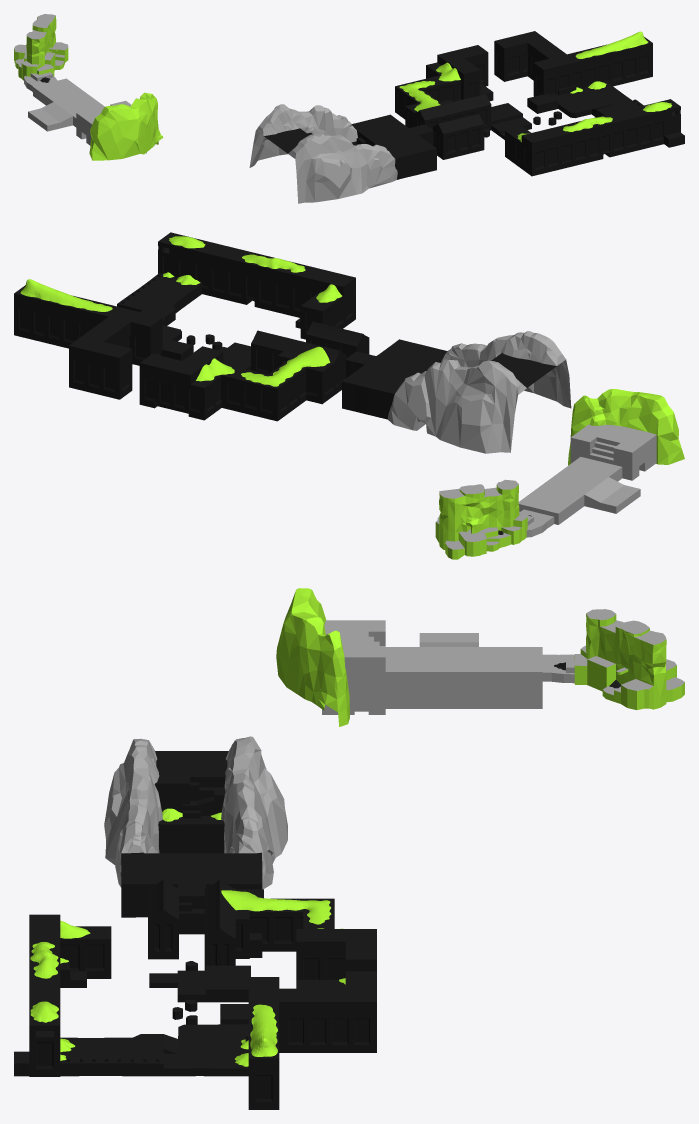
The model's file is LavaGroundA.obj.
3 views of the same model, one above another, from view 1: azimuth 30°, elevation 25°; view 2: azimuth 150°, elevation 25°; view 3: azimuth 270°, elevation 25° (orthographic). The views are drawn at different scales.
Parts seen in each view (by area): view 1: Plane.001; view 2: Plane.001; view 3: Plane.001.
Part boxes in pixels (x1,y1,x2,y2): Plane.001: (14,14,684,203); Plane.001: (14,232,684,559); Plane.001: (14,588,684,1109).
Size of the model in its own units: 34298 by 5013 by 23744.
